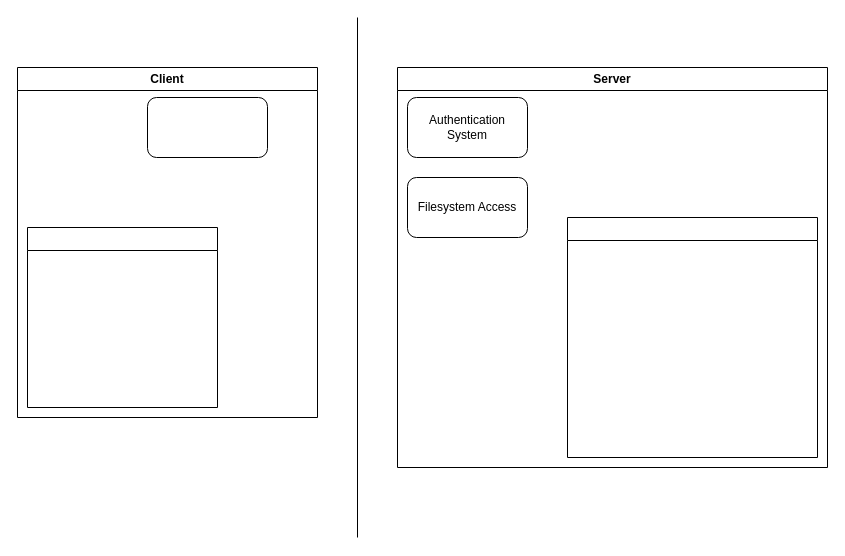
Some shapes in this 845 by 556 pixel diagram are drawn without their labels. The centre of each missing label's shape, as x and y in pixels:
Filesystem: [692,337]
Local Filesystem: [122,317]
